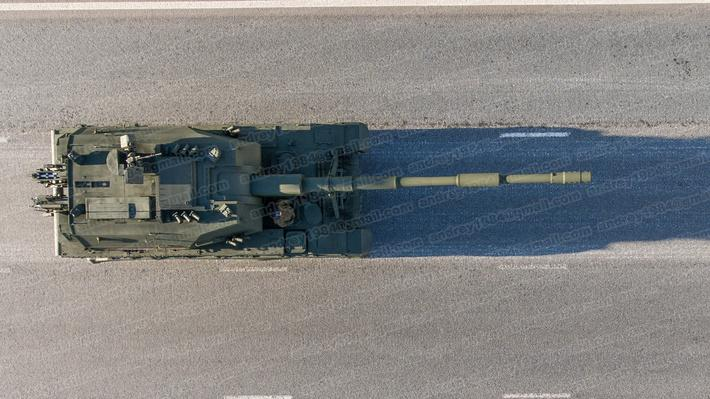tank: (31, 122, 597, 261)
